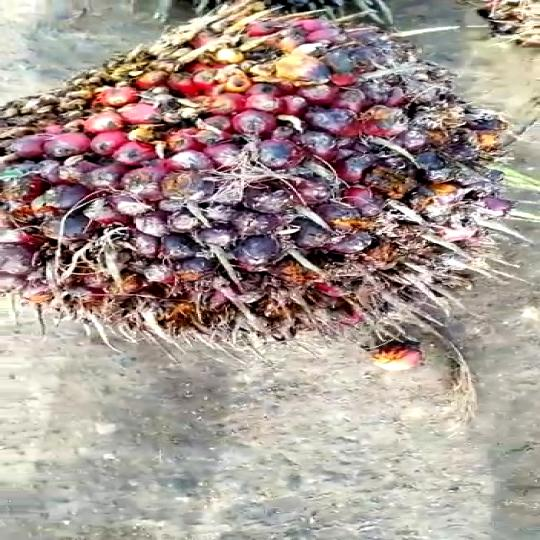masak: (0, 0, 515, 330)
